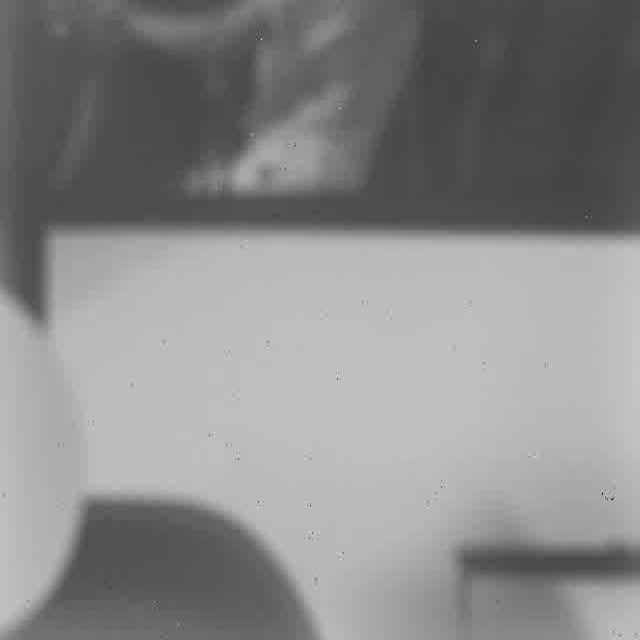Bus: (32, 0, 640, 640)
